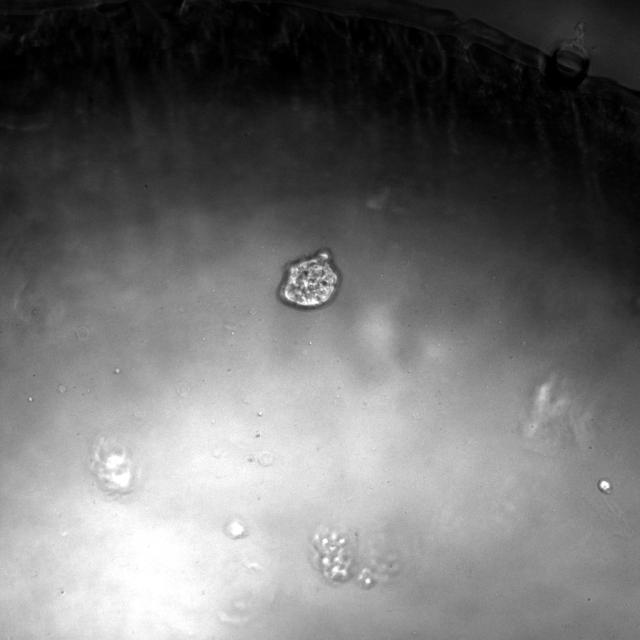organoid: (312, 527, 398, 589), (279, 250, 340, 309), (91, 438, 139, 494), (598, 478, 612, 493)
